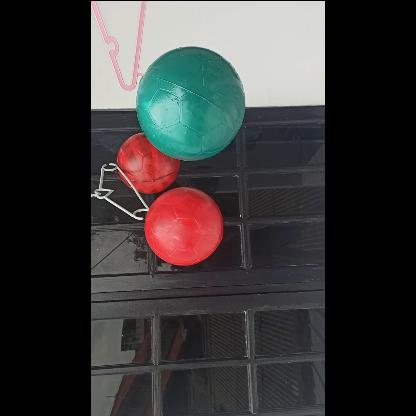red_ball: (144, 187, 222, 266)
